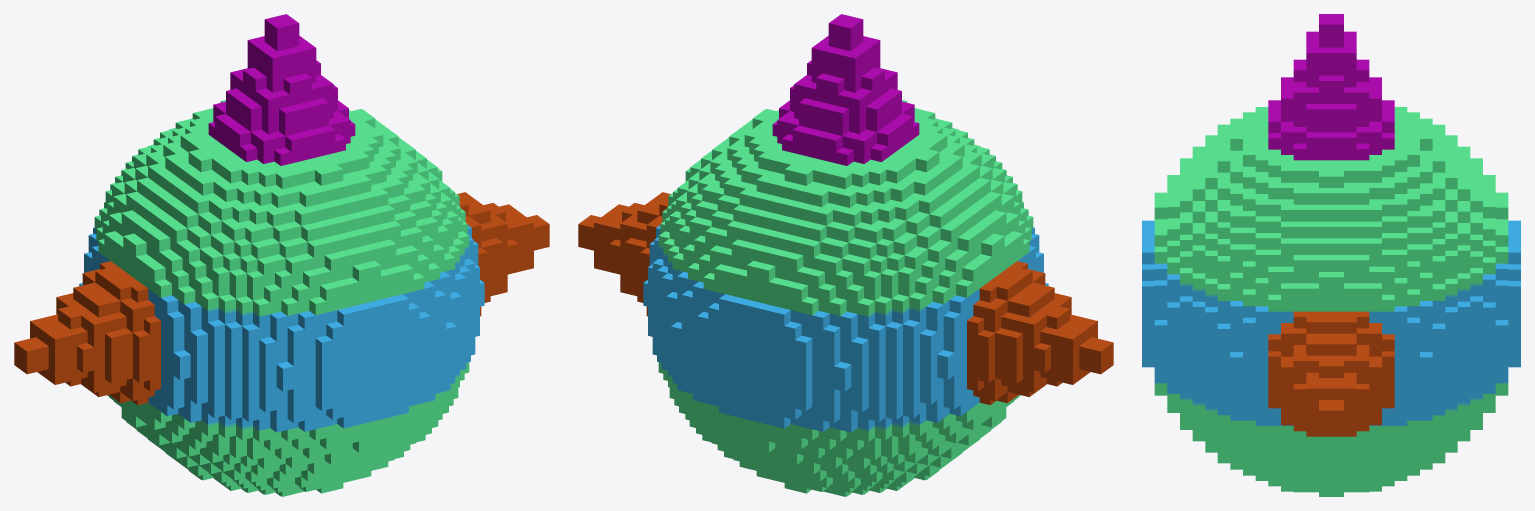
File: Character_12.fbx
3 renders of one model, left to right at view 1: azimuth 30°, elevation 25°; view 2: azimuth 150°, elevation 25°; view 3: azimuth 270°, elevation 25°, orthographic.
Visible parts, largest first — view 1: Character_12; view 2: Character_12; view 3: Character_12.
Part boxes in pixels (x1,y1,x2,y2): Character_12: (14, 14, 549, 496); Character_12: (578, 14, 1113, 496); Character_12: (1142, 14, 1520, 496).
Bounding box in the file's own units: 48 × 39 × 30.
1 material, 1 textured.
